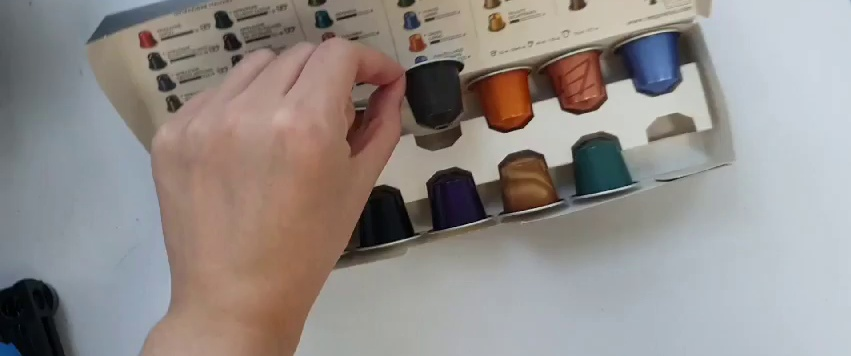capsule_4: (395, 57, 467, 132)
